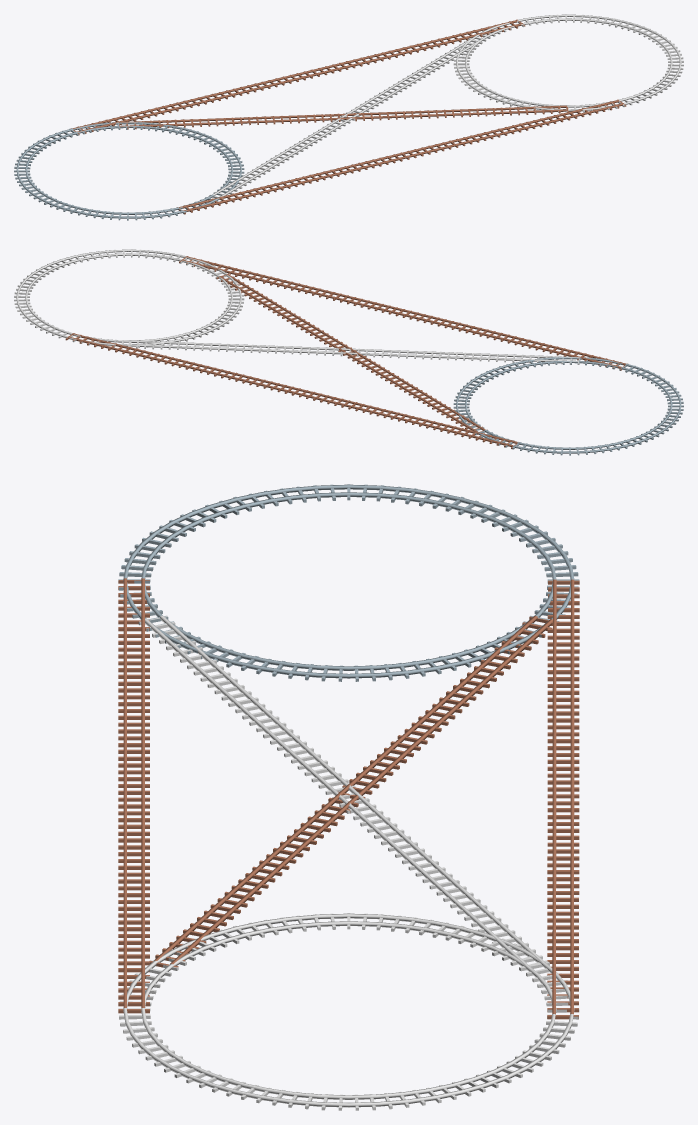
Rendered from map.glb.
3 views of the same model, one above another, from view 1: azimuth 30°, elevation 25°; view 2: azimuth 150°, elevation 25°; view 3: azimuth 270°, elevation 25° (orthographic). The views are drawn at different scales.
Parts seen in each view (by area): view 1: CircleTrackLeft, CircleTrackRight, StraightTrackBottom, StraightTrackBottom.001, CrossTrack1.001, CrossTrack1; view 2: CircleTrackLeft, CircleTrackRight, StraightTrackBottom.001, StraightTrackBottom, CrossTrack1, CrossTrack1.001; view 3: CircleTrackRight, CircleTrackLeft, StraightTrackBottom.001, StraightTrackBottom, CrossTrack1, CrossTrack1.001.
Boxes of the visible parts, x1=… form: CircleTrackLeft: x1=14, y1=122, x2=244, y2=220; CircleTrackRight: x1=453, y1=14, x2=683, y2=112; StraightTrackBottom: x1=177, y1=99, x2=626, y2=214; StraightTrackBottom.001: x1=71, y1=19, x2=525, y2=135; CrossTrack1.001: x1=118, y1=105, x2=568, y2=129; CrossTrack1: x1=209, y1=38, x2=482, y2=198; CircleTrackLeft: x1=453, y1=357, x2=683, y2=455; CircleTrackRight: x1=14, y1=249, x2=244, y2=347; StraightTrackBottom.001: x1=65, y1=333, x2=519, y2=448; StraightTrackBottom: x1=179, y1=256, x2=627, y2=370; CrossTrack1: x1=128, y1=340, x2=580, y2=364; CrossTrack1.001: x1=216, y1=273, x2=487, y2=434; CircleTrackRight: x1=118, y1=913, x2=579, y2=1110; CircleTrackLeft: x1=118, y1=484, x2=579, y2=681; StraightTrackBottom.001: x1=547, y1=579, x2=579, y2=1019; StraightTrackBottom: x1=118, y1=578, x2=149, y2=1013; CrossTrack1: x1=139, y1=615, x2=549, y2=971; CrossTrack1.001: x1=149, y1=616, x2=552, y2=967.
Size of what is drawn, in the model's own units: 46.53 by 0.1618 by 14.54.
